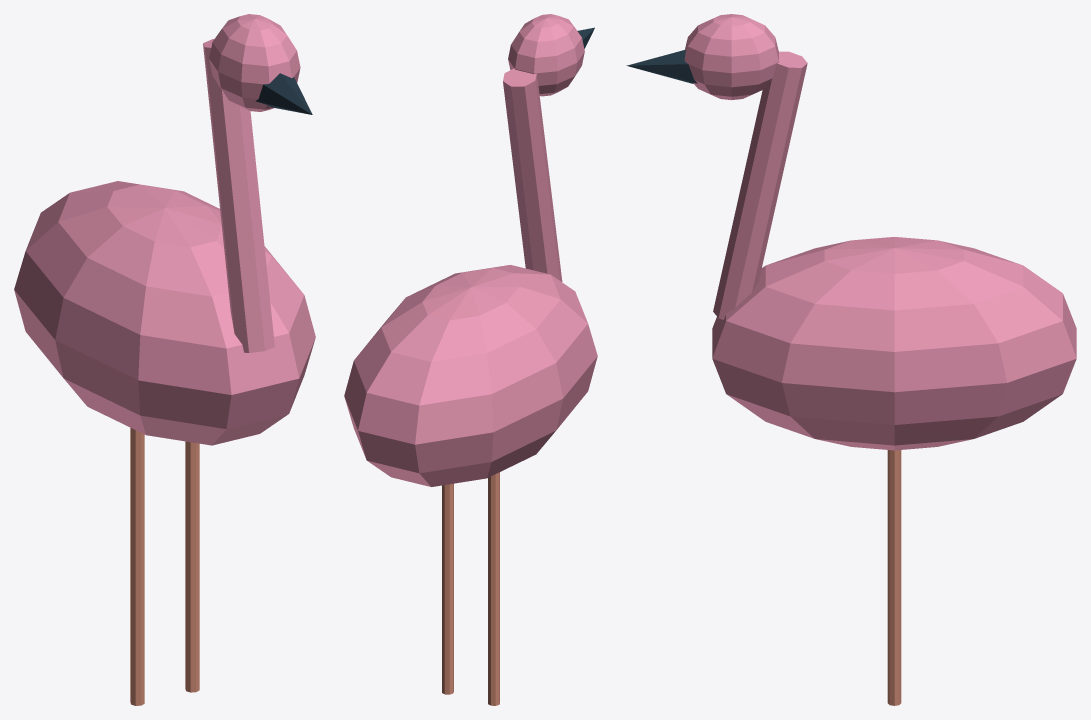
The model's file is flamingo.obj.
3 views of the same model, side by side, from view 1: azimuth 30°, elevation 25°; view 2: azimuth 150°, elevation 25°; view 3: azimuth 270°, elevation 25° (orthographic). The views are drawn at different scales.
Visible parts, largest first — view 1: flamingo; view 2: flamingo; view 3: flamingo.
Boxes of the visible parts, x1=… form: flamingo: x1=14, y1=14, x2=315, y2=705; flamingo: x1=344, y1=14, x2=597, y2=705; flamingo: x1=626, y1=14, x2=1076, y2=705.
Size of the model in its own units: 1.2 by 3.88 by 2.35.
